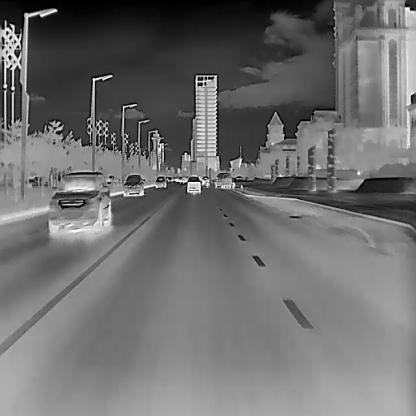car: (46, 170, 110, 233), (122, 173, 144, 196), (214, 172, 231, 188), (186, 175, 200, 193), (155, 176, 165, 188), (202, 175, 210, 187)
